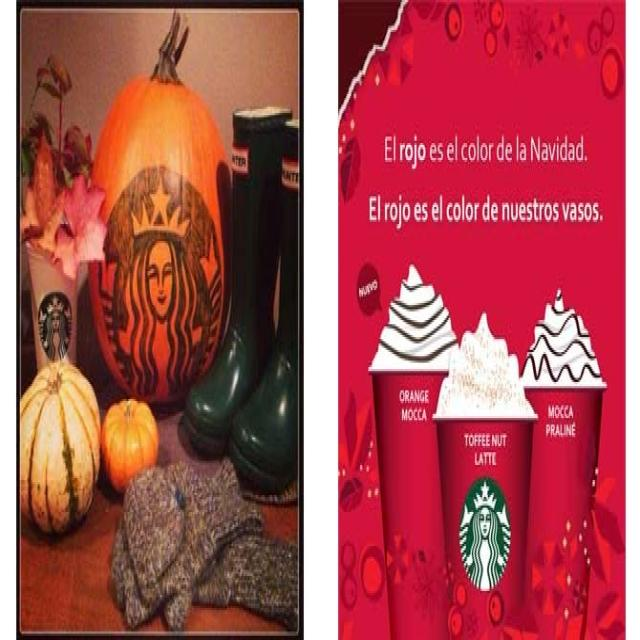starbucks: (93, 164, 240, 420), (456, 467, 514, 593), (34, 283, 76, 371)
